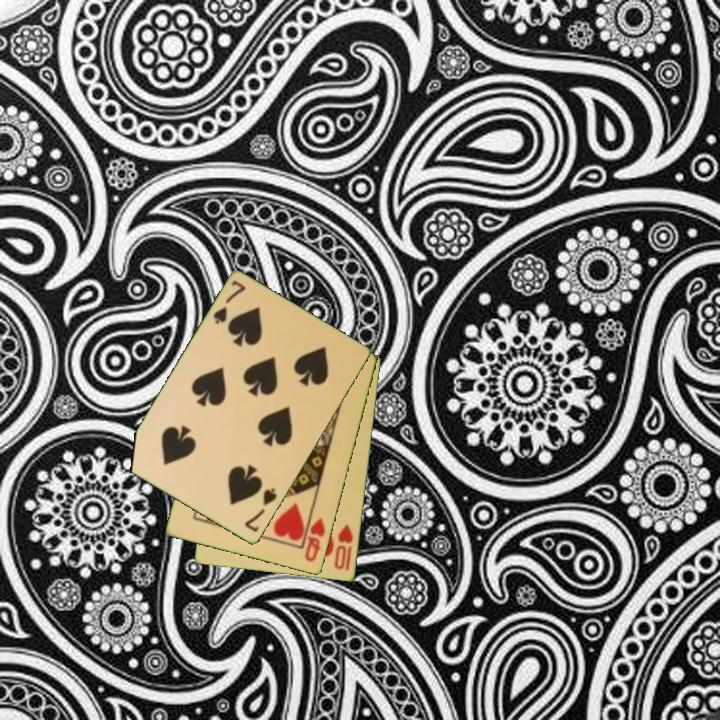10h: (331, 520, 356, 574)
7s: (241, 484, 280, 535), (210, 277, 248, 328)
Qh: (301, 514, 328, 565)
